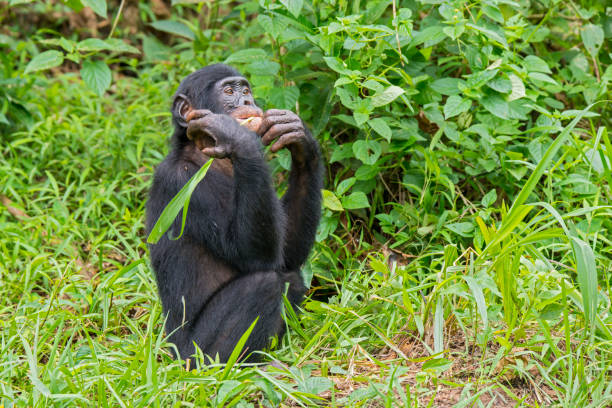chimpanzee: (153, 52, 291, 163)
